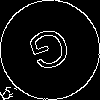G: (25, 25, 77, 82)
